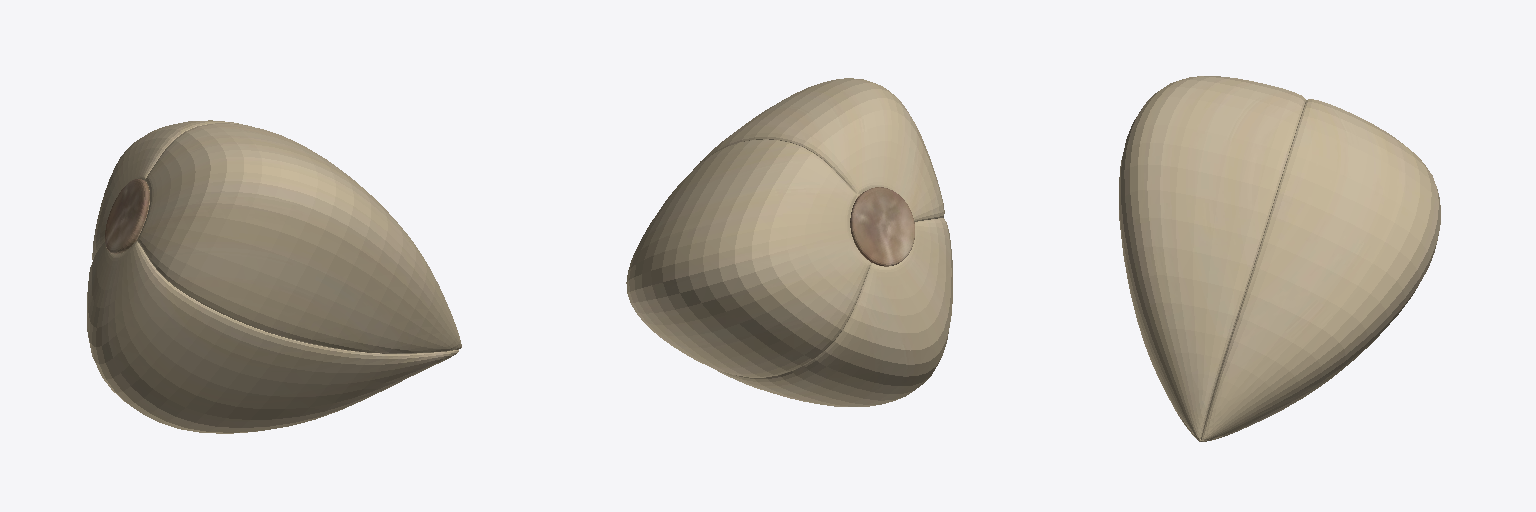
3 views of the same model, side by side, from view 1: azimuth 30°, elevation 25°; view 2: azimuth 150°, elevation 25°; view 3: azimuth 270°, elevation 25° (orthographic).
Parts seen in each view (by area): view 1: GrainBuckwheat013; view 2: GrainBuckwheat013; view 3: GrainBuckwheat013.
Boxes of the visible parts, x1=… form: GrainBuckwheat013: x1=87, y1=120, x2=461, y2=433; GrainBuckwheat013: x1=626, y1=78, x2=952, y2=406; GrainBuckwheat013: x1=1119, y1=76, x2=1440, y2=441.
Bounding box in the file's own units: 0.0308 × 0.0265 × 0.0261.
1 materials, 1 textured.